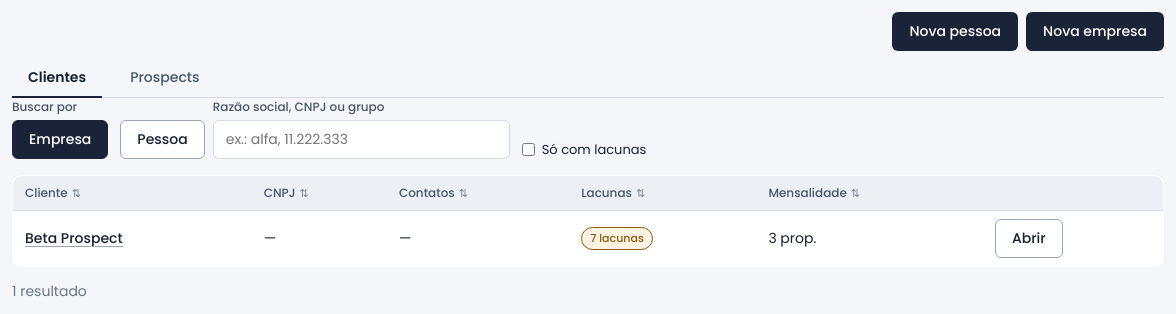
it: Contatos — clientes e prospects separados › a aba Prospects consulta só prospects e mostra propostas em vez de mensalidade
This screenshot has width=1176, height=314.
Click the tab "Prospects" at [165, 78], box top-left (114, 59), bottom-right (215, 98)
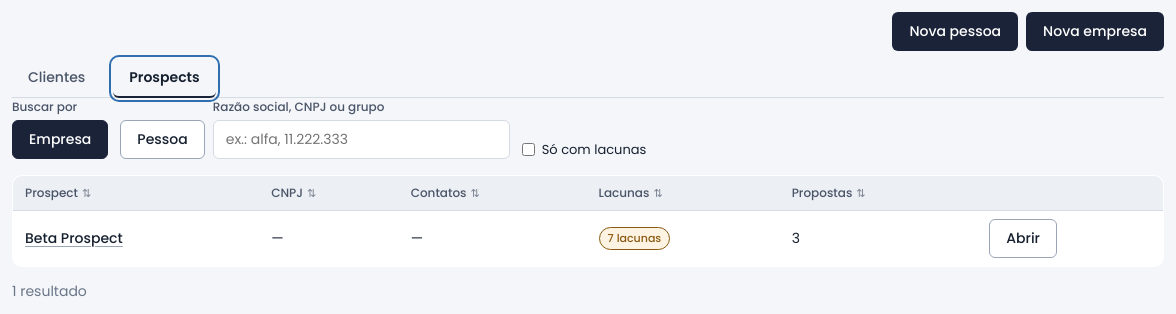
Expected: the button "Beta Prospect" is shown, top-left (25, 228), bottom-right (123, 249)
Expected: the column heading "Propostas" is shown, top-left (780, 176), bottom-right (977, 210)
